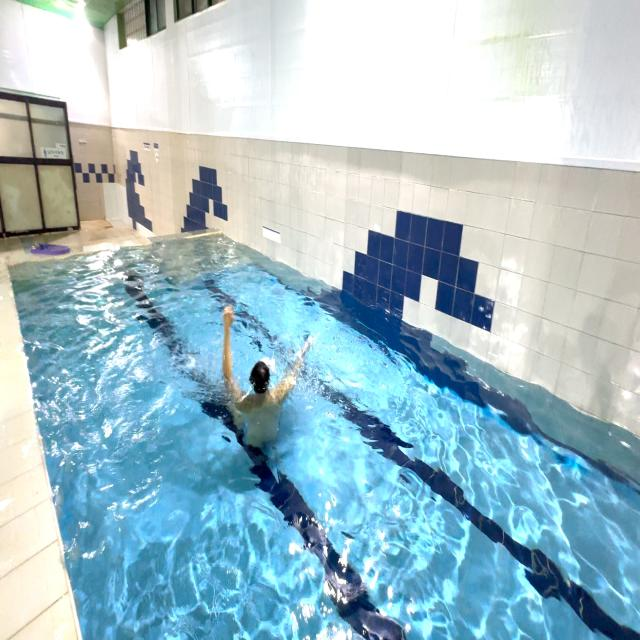Drowning: (202, 278, 321, 472)
